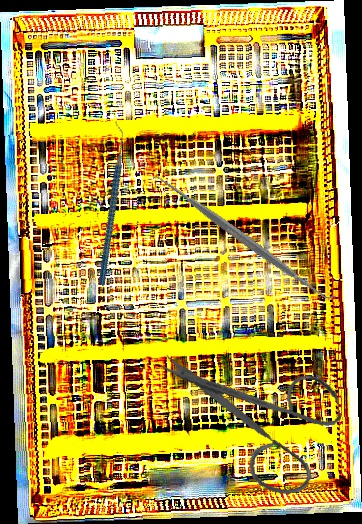Chopper: (45, 120, 174, 287)
Iris Scissors: (158, 328, 352, 511)
Spatula Surgical: (148, 164, 339, 312)
